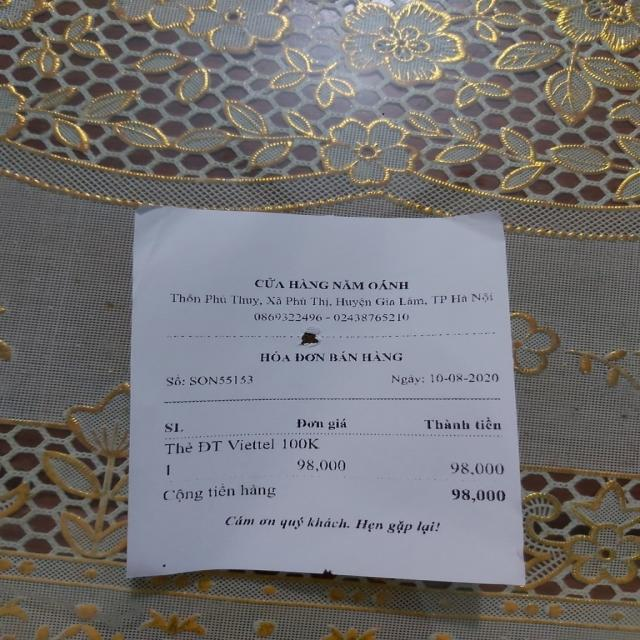Date: (427, 371, 503, 386)
Store_Name: (252, 277, 411, 290)
amount_number: (449, 485, 508, 505)
label_total: (158, 484, 281, 502)
